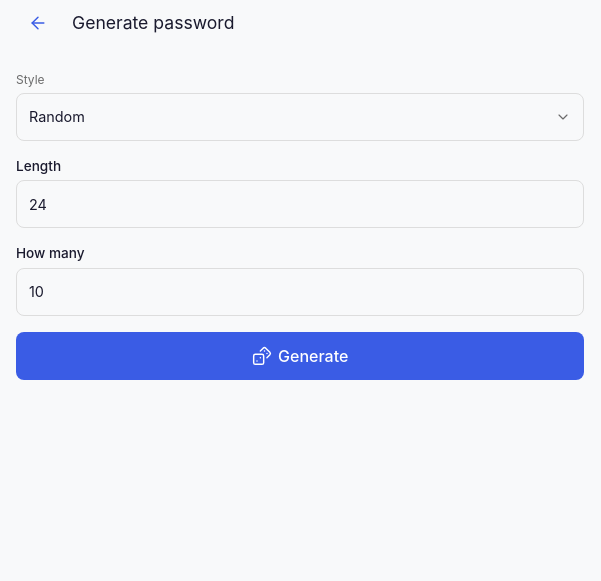
Test case: GeneratePasswordPage › renders one row per generated password
The image size is (601, 581).
Replace the text in the number field with id "g-count" with "3" at (300,292), box [16,268,584,316]
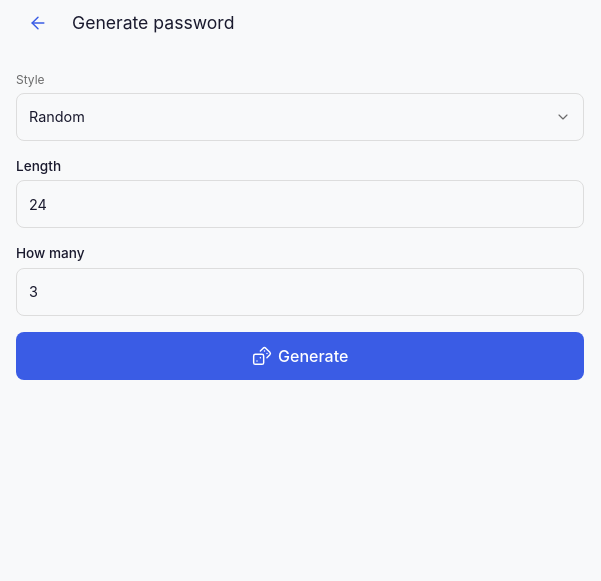
Submit the form, box [16,71,584,380]
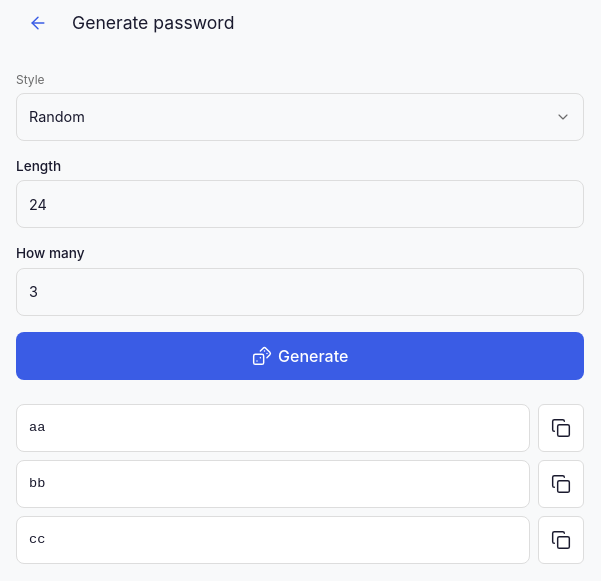
Expected: the number of list items with class "result-row" is 3, [16,404,584,452]; [16,460,584,508]; [16,516,584,564]
